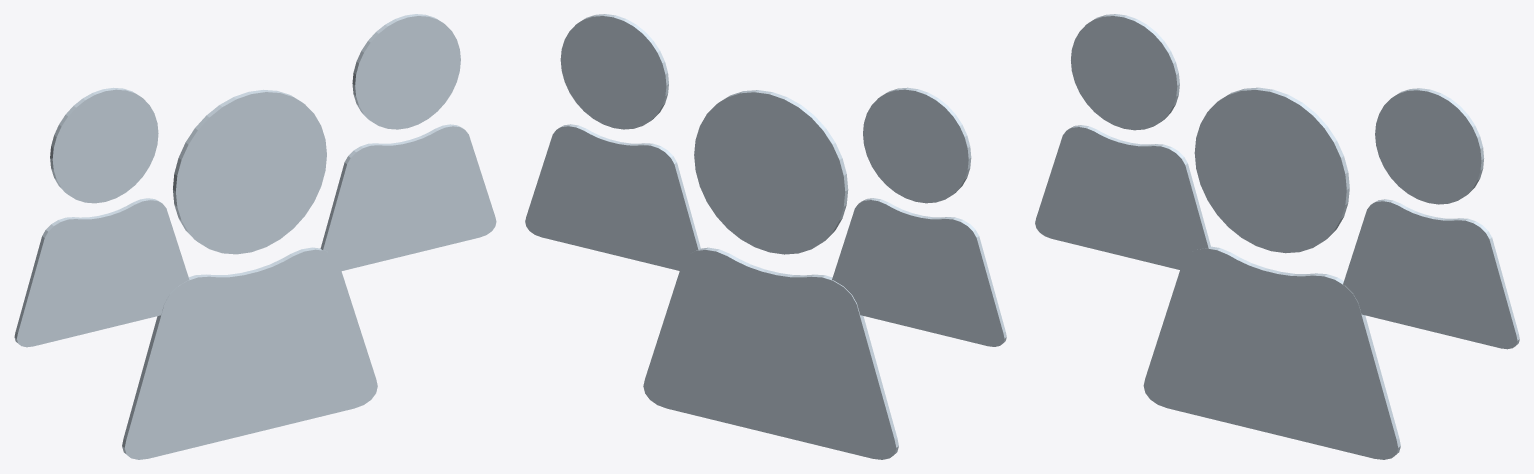
File: Group_User_3D_Icon.fbx
The picture shows the model from 3 angles, left to right: view 1: azimuth 30°, elevation 25°; view 2: azimuth 150°, elevation 25°; view 3: azimuth 330°, elevation 25°; orthographic projection.
Parts seen in each view (by area): view 1: Group_User_3D_Icon; view 2: Group_User_3D_Icon; view 3: Group_User_3D_Icon.
Boxes of the visible parts, x1,y1,x2,y2 form: Group_User_3D_Icon: (14, 14, 496, 459); Group_User_3D_Icon: (525, 14, 1006, 459); Group_User_3D_Icon: (1035, 14, 1519, 459).
Bounding box in the file's own units: 179 × 135 × 1.96.
